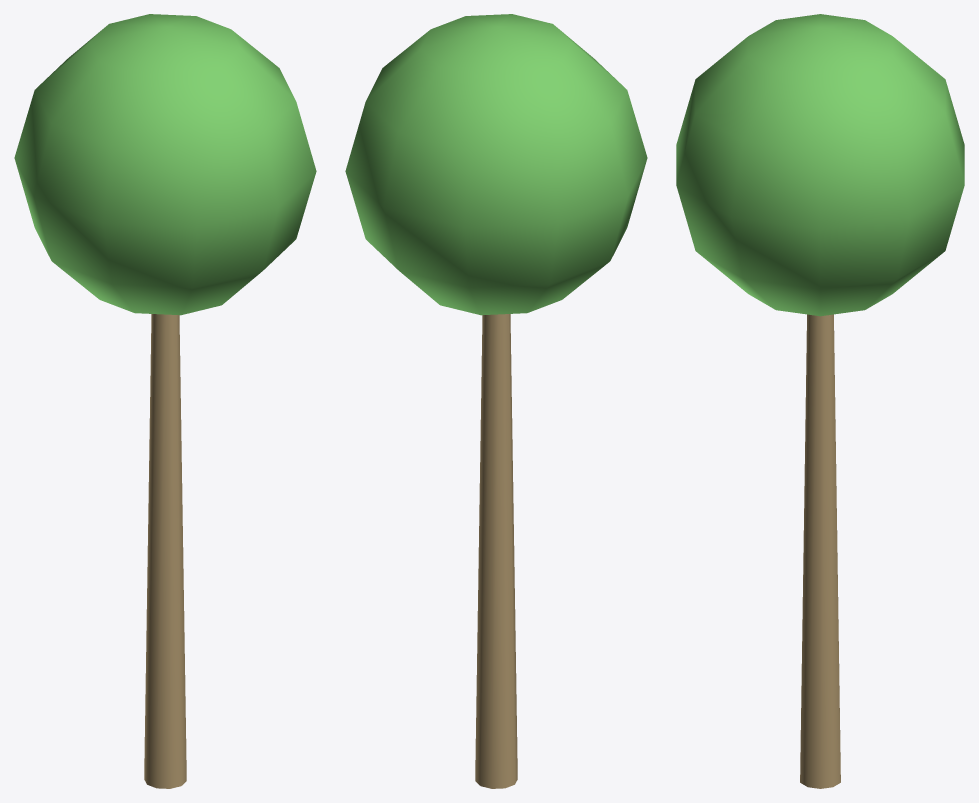
File: coconut_palm.glb
3 views of the same model, side by side, from view 1: azimuth 30°, elevation 25°; view 2: azimuth 150°, elevation 25°; view 3: azimuth 270°, elevation 25° (orthographic).
Size of the model in its own units: 1.7 by 4.65 by 1.62.
